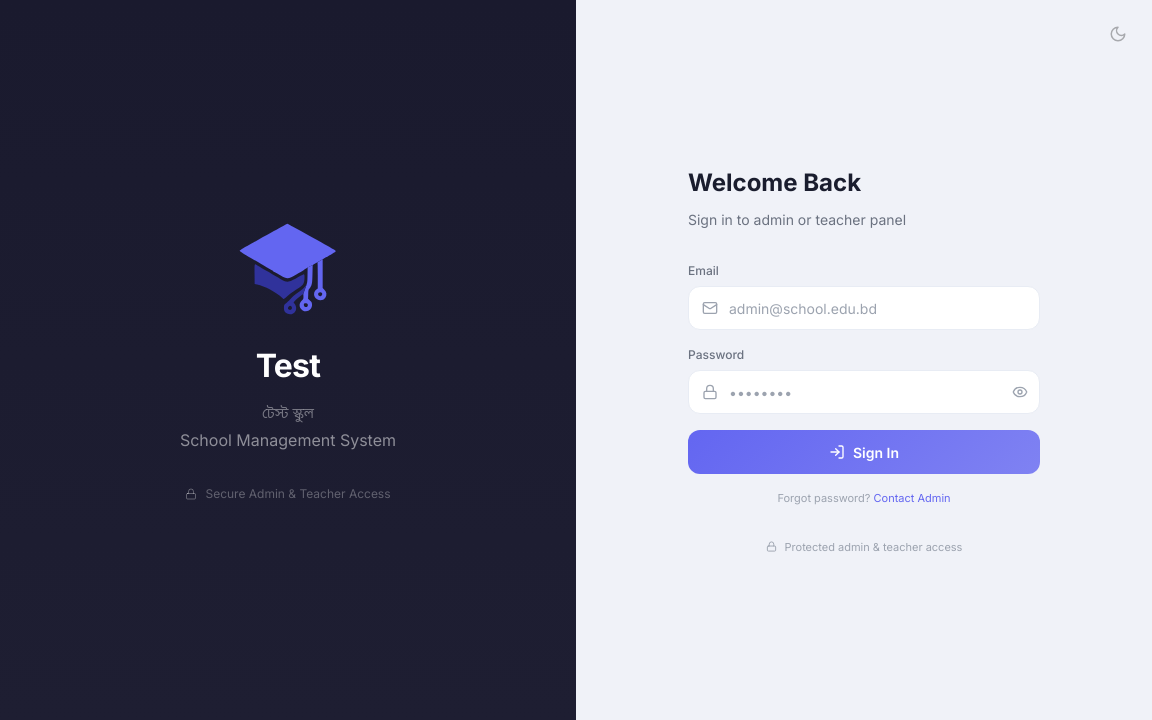
InstitutionLogin credential handling (Phase 6) › server-side rejection keeps the invalid-credentials message and attempt counter
Expected: the password field with placeholder "••••••••" is shown, top-left (688, 370), bottom-right (1040, 414)
Type "admin@demo.bd" into the field with placeholder "admin@school.edu.bd" at (864, 308), box top-left (688, 286), bottom-right (1040, 330)
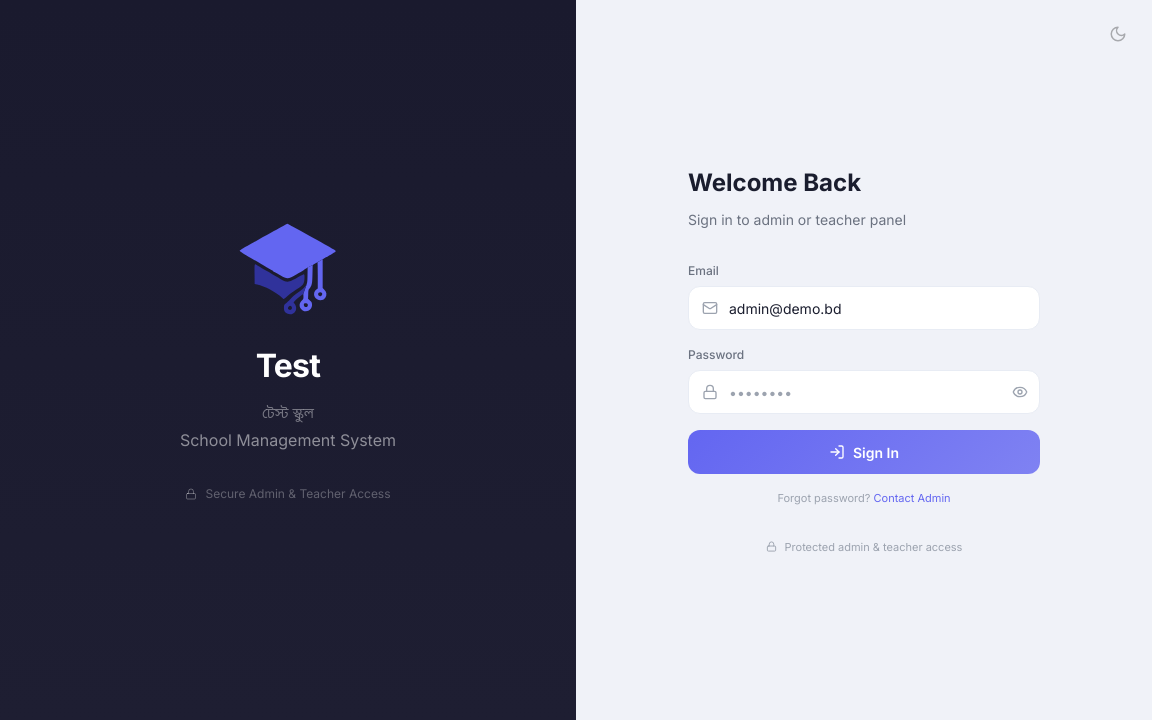
Type "Str0ng-S3cret!" into the password field with placeholder "••••••••" at (864, 392), box top-left (688, 370), bottom-right (1040, 414)
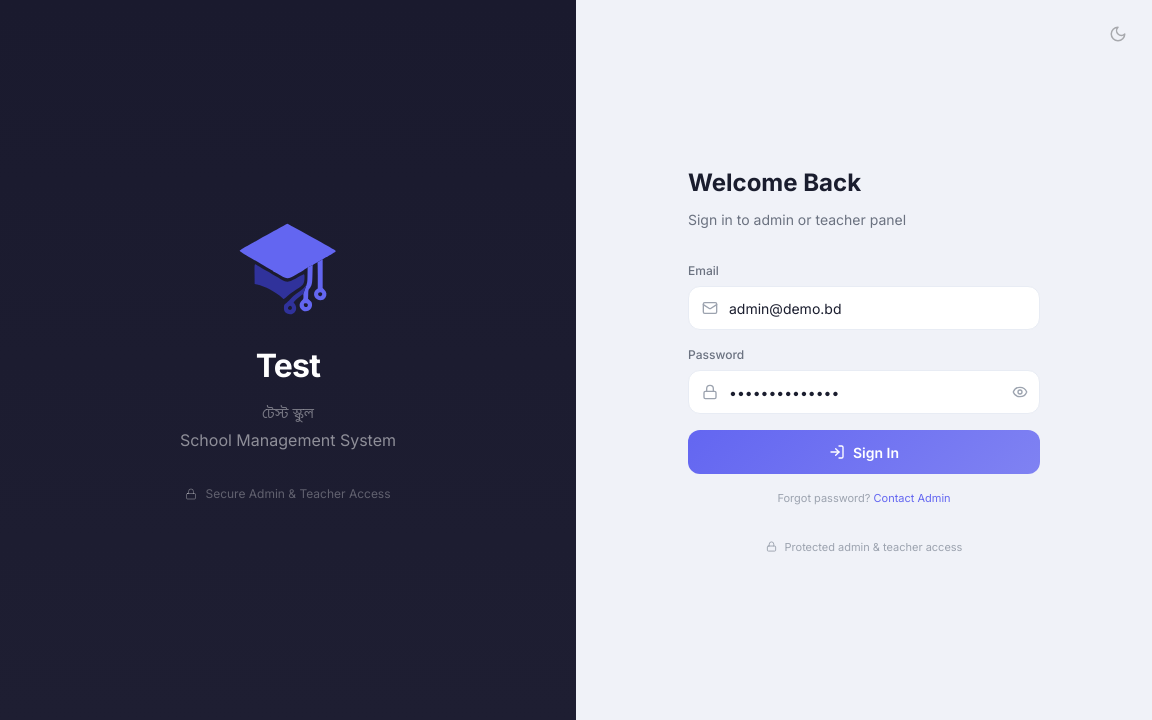
Submit the form, box top-left (688, 262), bottom-right (1040, 474)
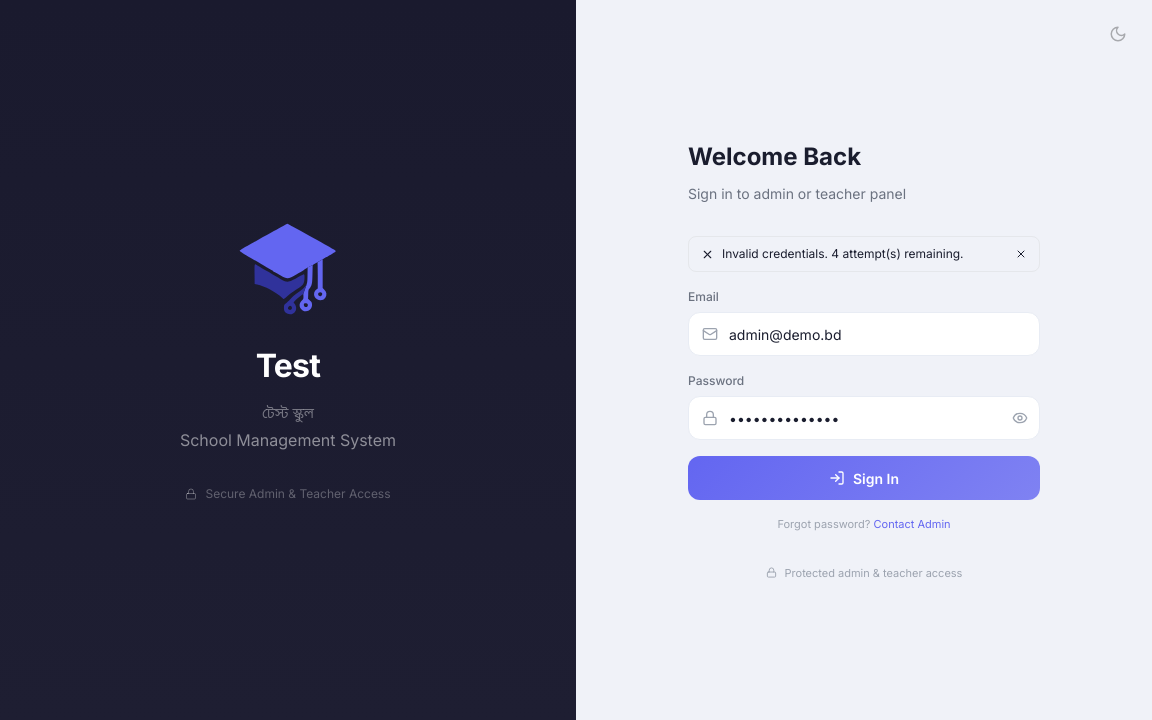
Expected: the text "Invalid credentials. 4 attempt(s) remaining." is shown, top-left (722, 246), bottom-right (964, 261)
